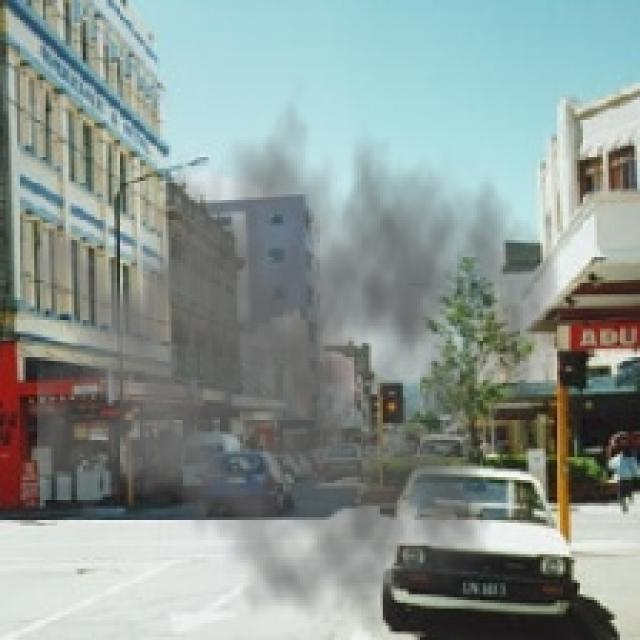smoke: (37, 74, 572, 637)
